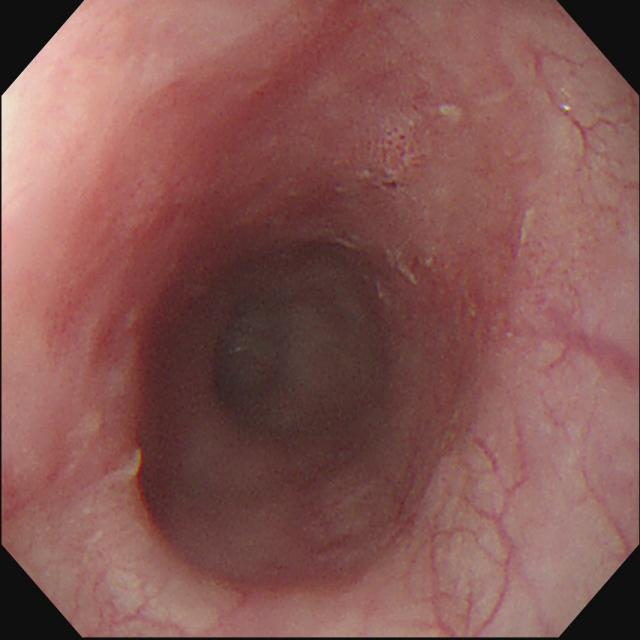A: (308, 461, 429, 576), (440, 235, 510, 351), (517, 246, 617, 319), (341, 128, 421, 195)
E: (192, 267, 322, 423)
J: (387, 237, 436, 287), (329, 234, 375, 255), (519, 208, 536, 246)
